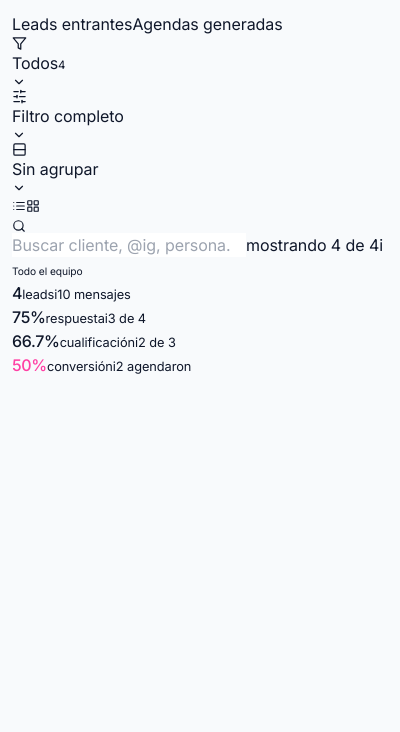
Test case: Totales · Leads › el filtro rápido «Agendaron» deja la conversión de esa lista
Click the button "Todos4".
click(39, 62)  # box [12,36,66,89]
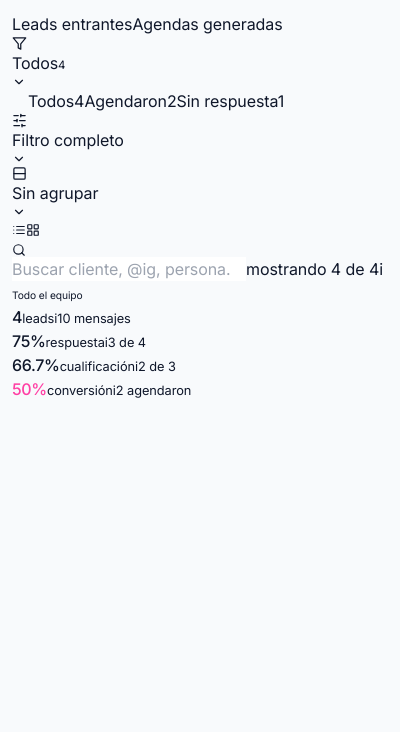
Click the menu item "Agendaron2".
click(130, 101)  # box [84,89,177,113]
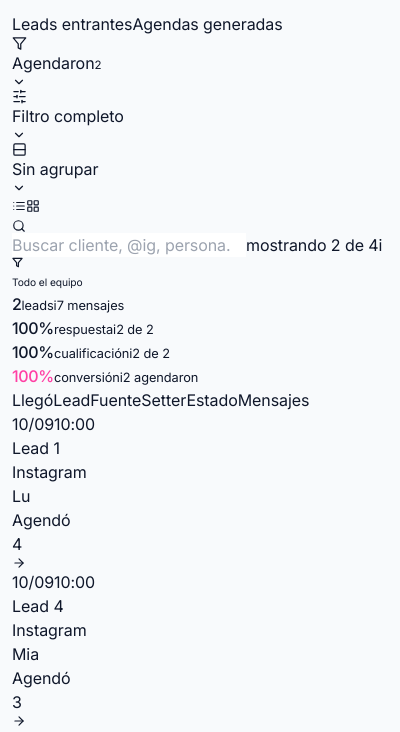
Expected: the number of buttons named "Abrir " is 2, [12,414,95,570]; [12,572,95,728]
Expected: the text "mostrando 2 de 4" is shown, [246,235,379,255]
